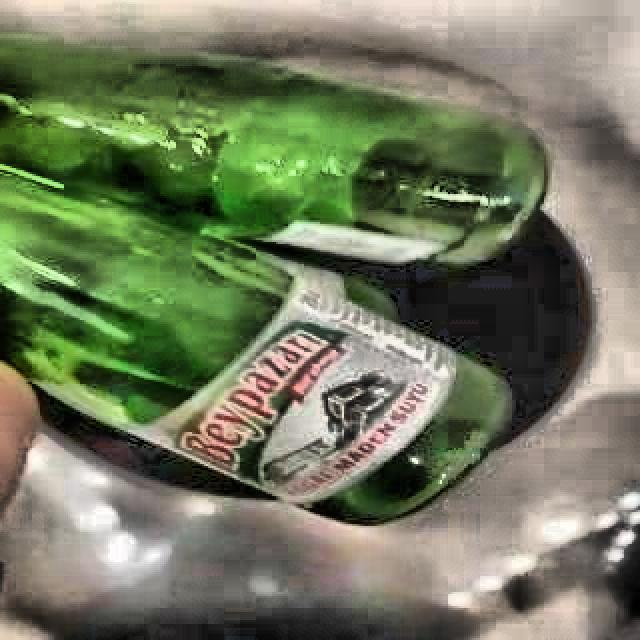glass: (0, 39, 549, 520)
